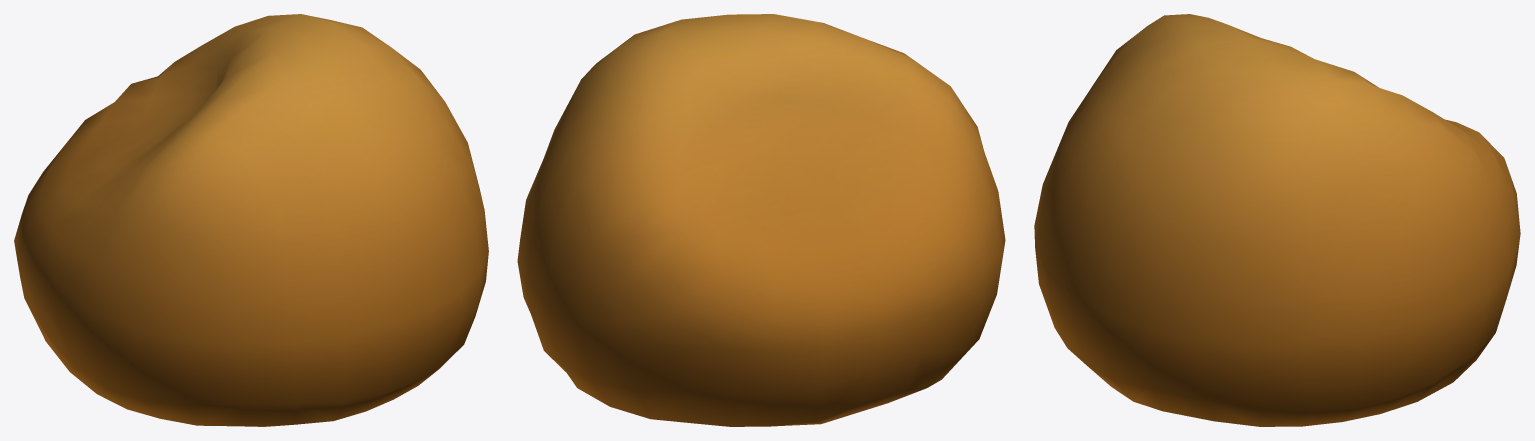
Rendered from beanbag2.fbx.
3 views of the same model, side by side, from view 1: azimuth 30°, elevation 25°; view 2: azimuth 150°, elevation 25°; view 3: azimuth 270°, elevation 25° (orthographic). The views are drawn at different scales.
Visible parts, largest first — view 1: beanbag2; view 2: beanbag2; view 3: beanbag2.
Part boxes in pixels (<box>): beanbag2: <box>14,14,488,426</box>; beanbag2: <box>517,14,1005,426</box>; beanbag2: <box>1034,14,1520,426</box>.
Bounding box in the file's own units: 3.86 × 2.79 × 3.84.
